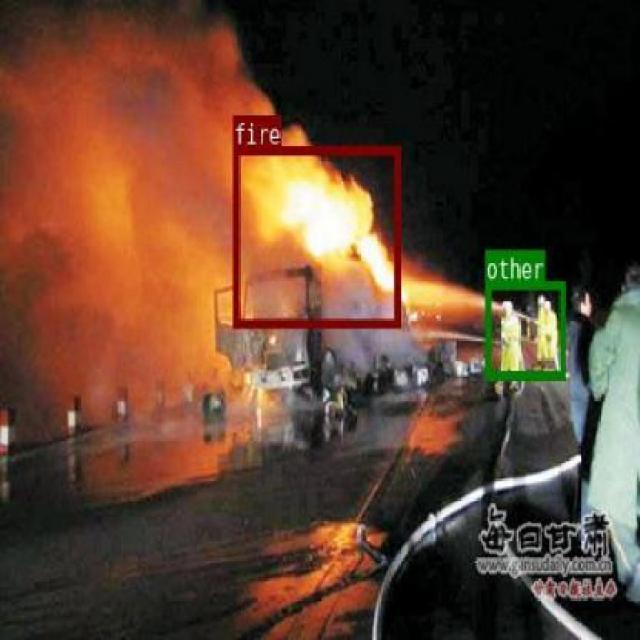Fire: (232, 144, 400, 326)
Smoke: (18, 20, 234, 487)
